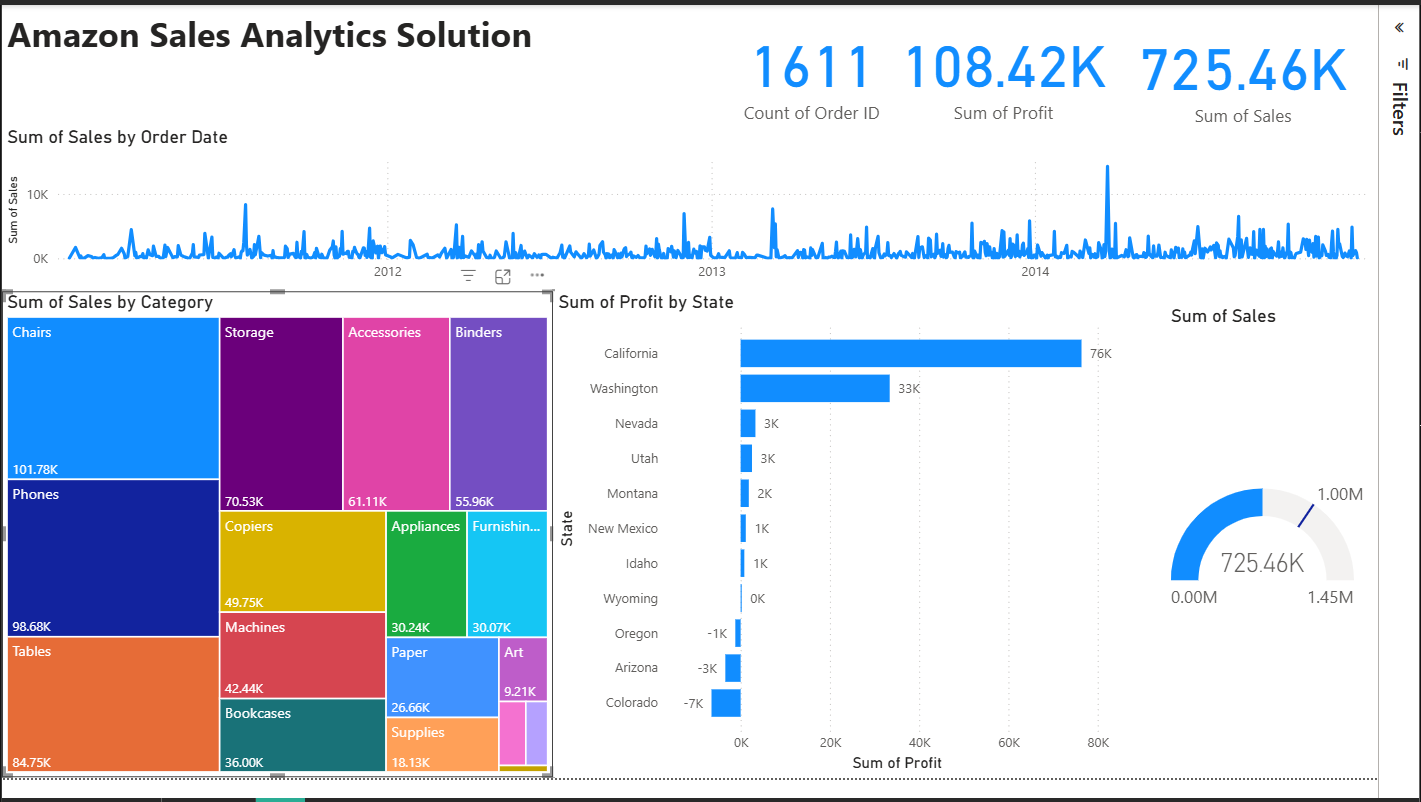

What the dashboard file says about the page in this screenshot:
{"tool":"powerbi","page":{"name":"Page 1","canvas":[1280,720],"ordinal":0},"visuals":[{"type":"card","fields":{"Values":["Sum(Walmart.Sales)"]},"box":[1028.8,0,251.2,128.8],"z":0},{"type":"card","fields":{"Values":["Sum(Walmart.Profit)"]},"box":[813.8,0,251.2,122.5],"z":1000},{"type":"card","fields":{"Values":["Count(Walmart.Order ID)"]},"box":[685,0,151.2,122.5],"z":2000},{"type":"lineChart","fields":{"Category":["Walmart.Order Date"],"Y":["Sum(Walmart.Sales)"]},"box":[0,113.2,1279,153.1],"z":3000},{"type":"treemap","fields":{"Values":["Sum(Walmart.Sales)"],"Group":["Walmart.Category"]},"box":[0,266.3,479.1,452.9],"z":4000},{"type":"barChart","fields":{"Category":["Walmart.State"],"Y":["Sum(Walmart.Profit)"]},"box":[479.1,266.3,549.3,452.9],"z":5000},{"type":"gauge","fields":{"Y":["Sum(Walmart.Sales)"]},"box":[1050.4,240.1,228.5,479.1],"z":6000},{"type":"textbox","box":[0,0,501.3,97.4],"z":7000}]}

Visuals, with their boxes in screenshot pixels (x1, y1, x2, y2):
card - Sum(Walmart.Sales): bbox=[1168, 0, 1420, 98]
card - Sum(Walmart.Profit): bbox=[924, 0, 1209, 91]
card - Count(Walmart.Order ID): bbox=[778, 0, 949, 91]
lineChart - Walmart.Order Date x Sum(Walmart.Sales): bbox=[0, 80, 1420, 254]
treemap - Sum(Walmart.Sales) x Walmart.Category: bbox=[0, 254, 544, 768]
barChart - Walmart.State x Sum(Walmart.Profit): bbox=[544, 254, 1167, 768]
gauge - Sum(Walmart.Sales): bbox=[1192, 224, 1420, 768]
textbox: bbox=[0, 0, 569, 62]
